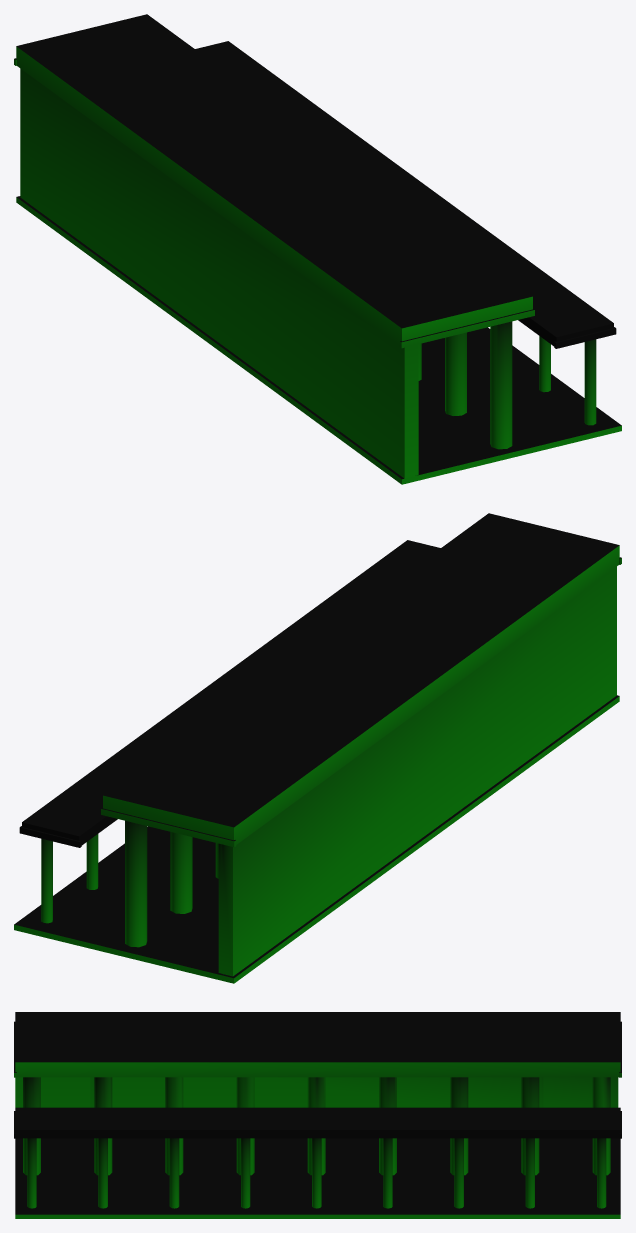
Rendered from s_promenade.glb.
3 renders of one model, top to bottom at view 1: azimuth 30°, elevation 25°; view 2: azimuth 150°, elevation 25°; view 3: azimuth 270°, elevation 25°, orthographic. The views are drawn at different scales.
Visible parts, largest first — view 1: lod0; view 2: lod0; view 3: lod0.
Part boxes in pixels (box(x1,y1,x2,y2)): lod0: box(14, 14, 621, 484); lod0: box(14, 513, 621, 983); lod0: box(14, 1012, 621, 1218).
Size of what is drawn, in the model's own units: 8.45 by 5.7 by 25.62.
